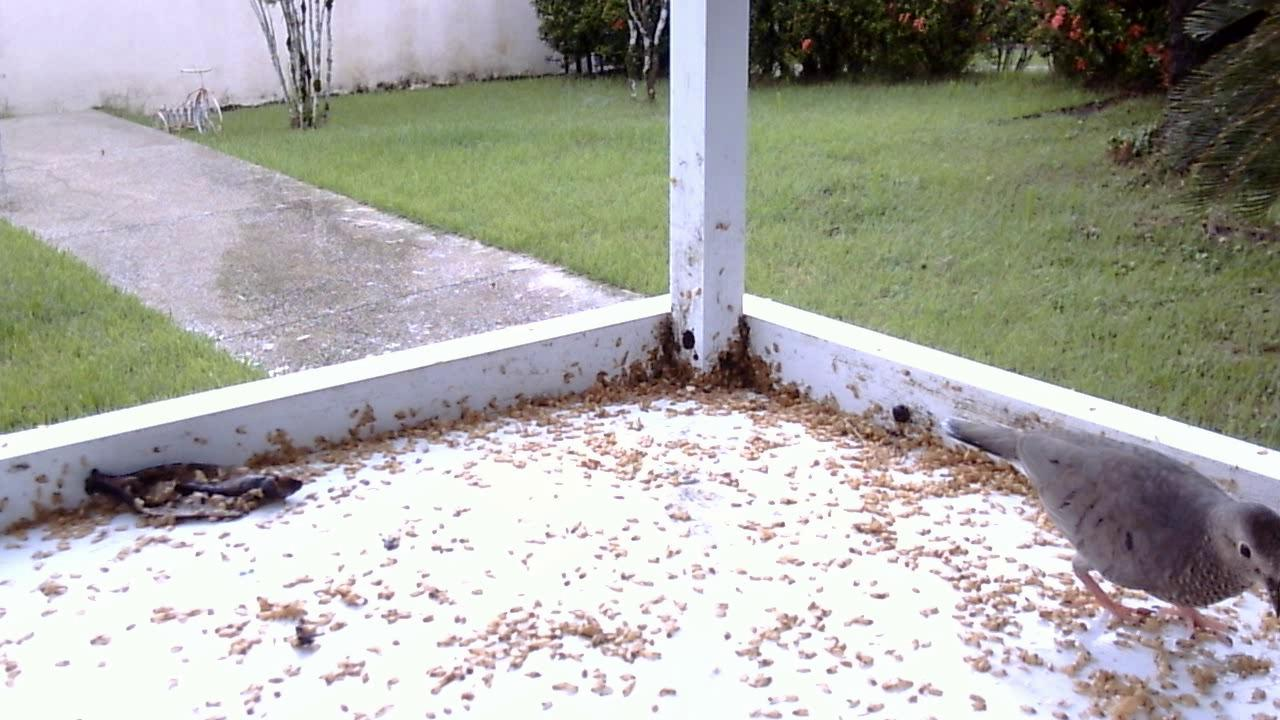rolinha: (922, 408, 1273, 666)
